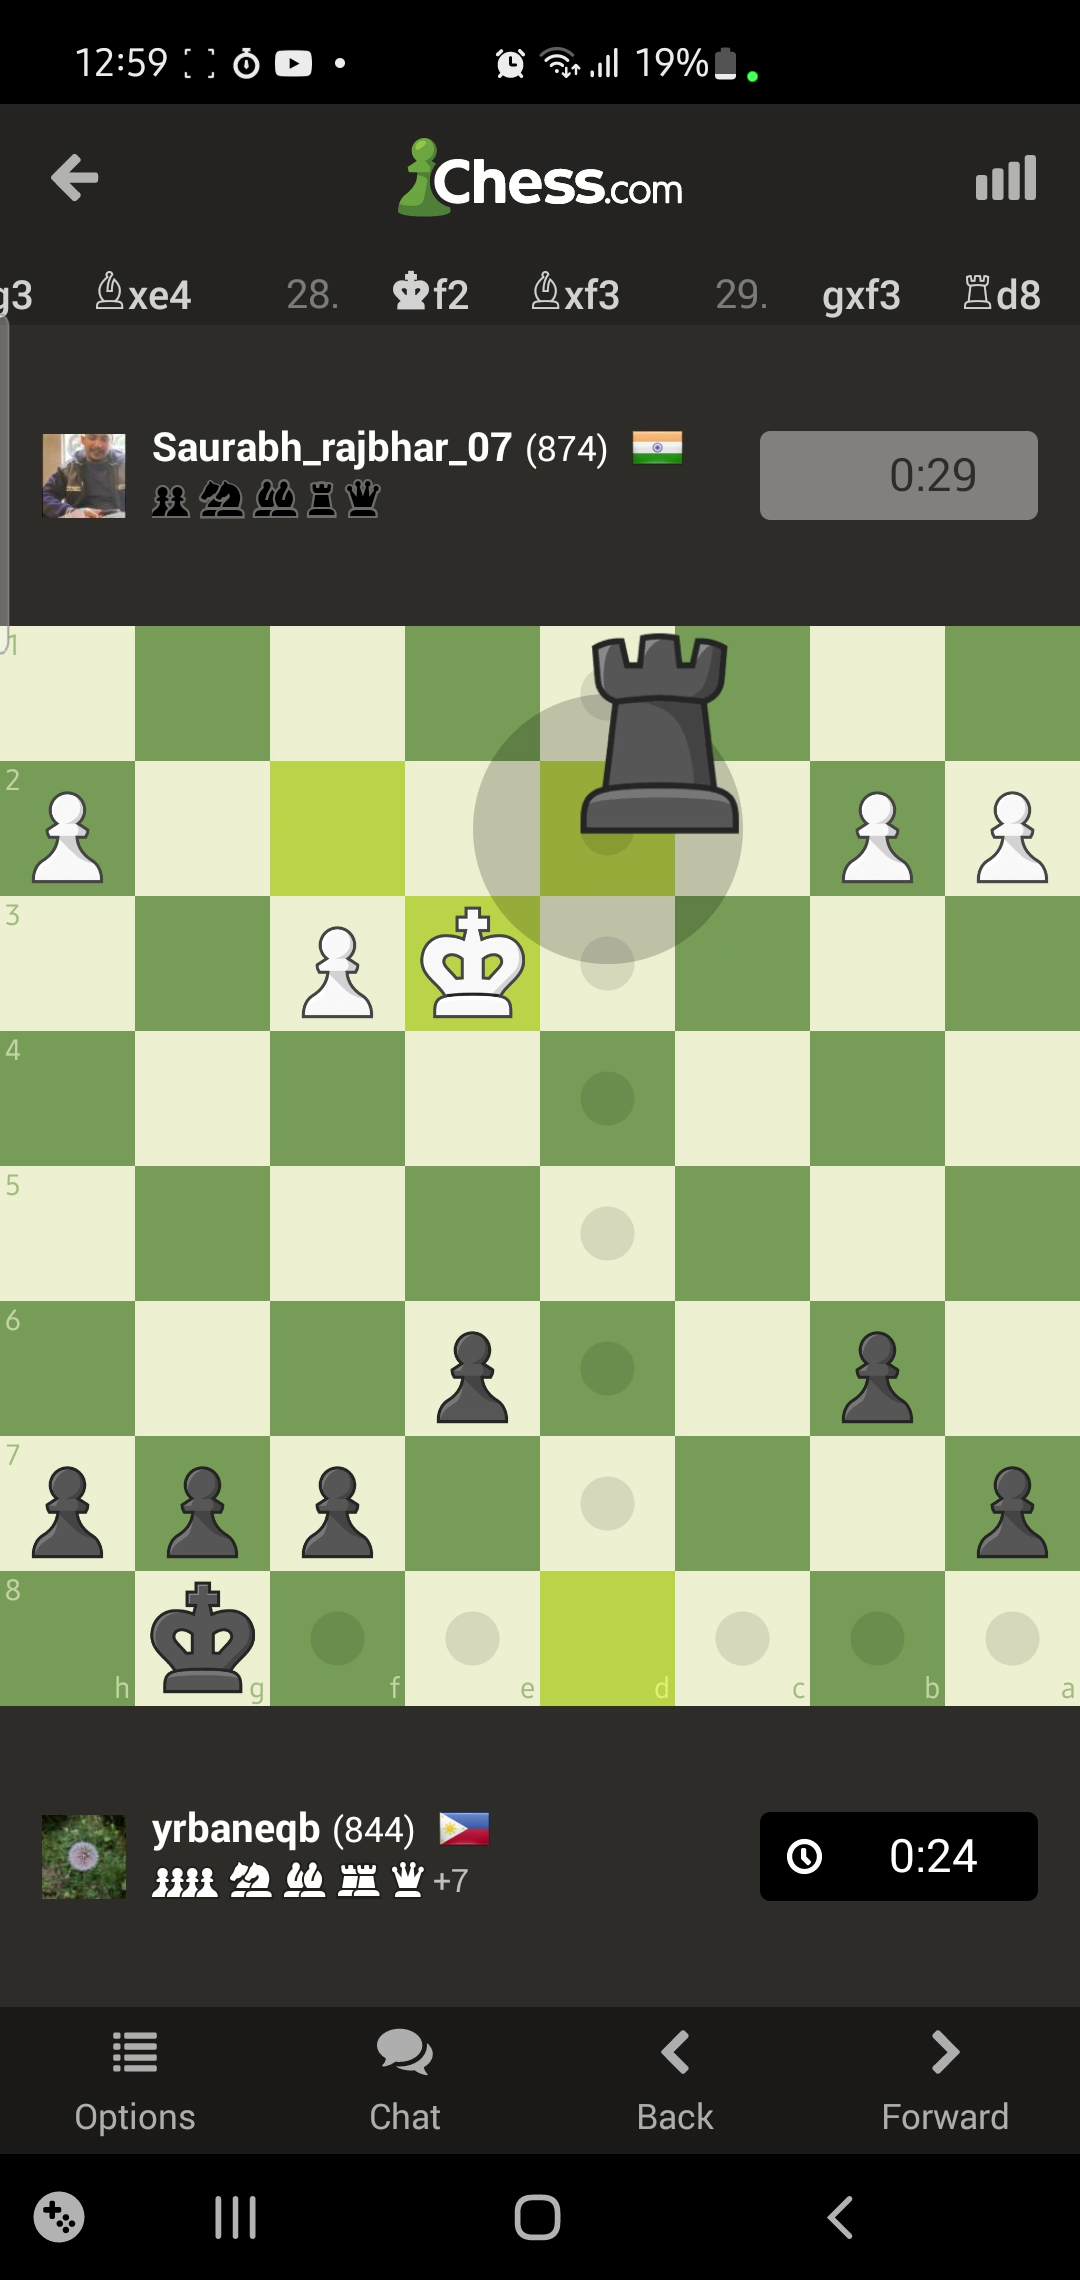king: (422, 904, 528, 1019), (150, 1578, 254, 1693)
